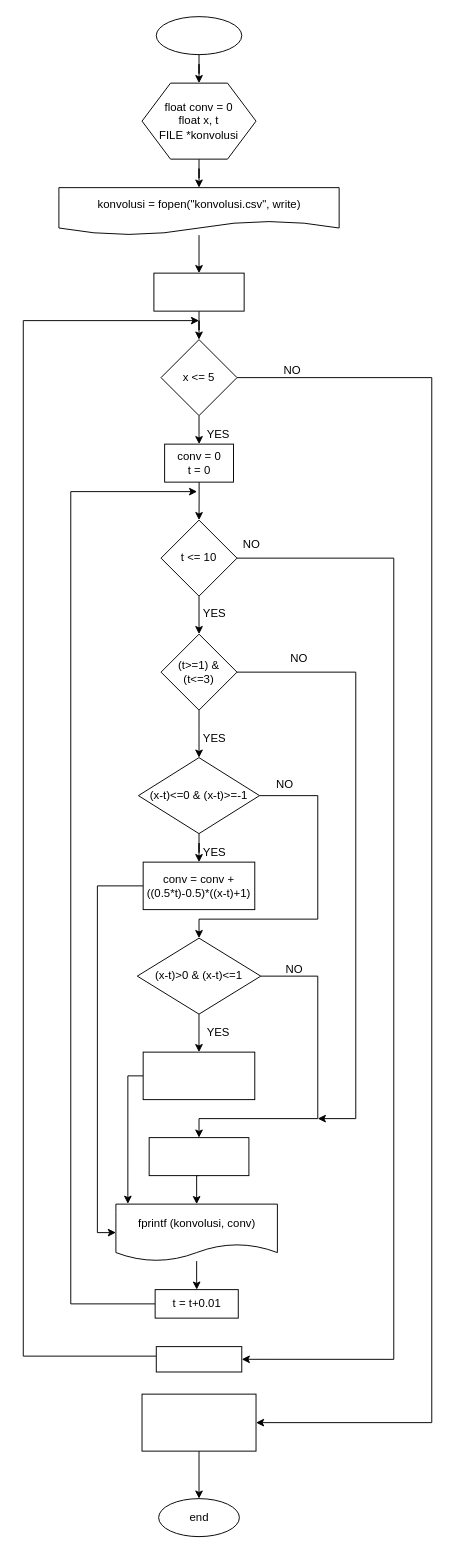
Some shapes in this 456 by 1553 pixel diagram are drawn without their labels. The centre of each missing label's shape, as x and y in pixels:
conv = conv + ((0.5*t)-0.5)*(1-(x-t)): point 198,1075
conv = conv + 0: point 198,1156
fclose (konvolusi): point 198,1422
start: point 198,35
x = 0: point 198,291
x = x+0.01: point 198,1359
